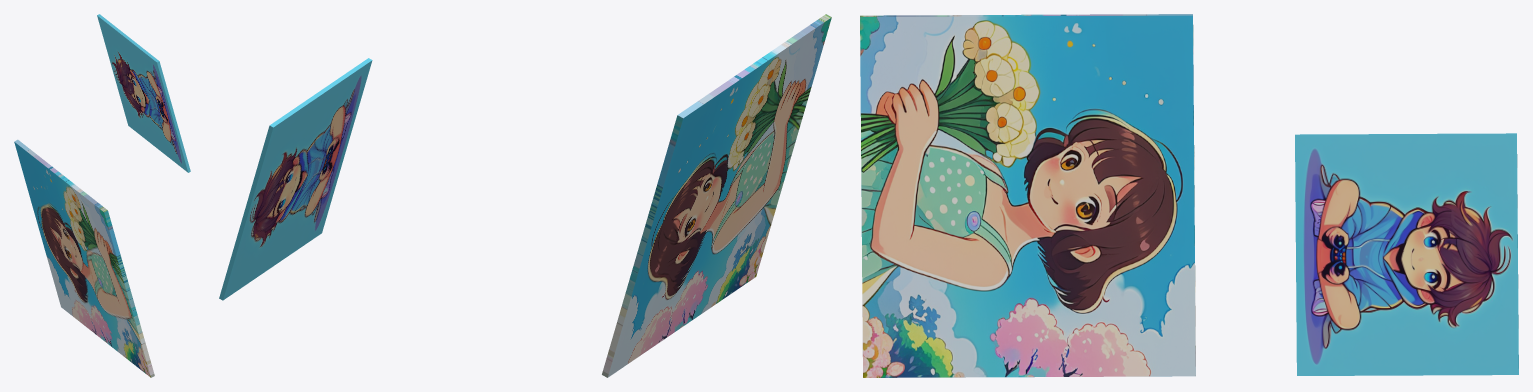
File: drowing.fbx
3 views of the same model, side by side, from view 1: azimuth 30°, elevation 25°; view 2: azimuth 150°, elevation 25°; view 3: azimuth 270°, elevation 25° (orthographic). The views are drawn at different scales.
Visible parts, largest first — view 1: Canvas_Plane.003, Canvas_Plane.002; view 2: Canvas_Plane.003, Canvas_Plane.002; view 3: Canvas_Plane.003, Canvas_Plane.002.
Part boxes in pixels (left/top/right/bottom): Canvas_Plane.003: left=14, top=139, right=154, bottom=377; Canvas_Plane.002: left=97, top=14, right=190, bottom=172; Canvas_Plane.003: left=602, top=14, right=831, bottom=377; Canvas_Plane.002: left=219, top=58, right=372, bottom=300; Canvas_Plane.003: left=860, top=14, right=1195, bottom=377; Canvas_Plane.002: left=1295, top=133, right=1518, bottom=375.
Bounding box in the file's own units: 393 × 355 × 594.
2 materials, 2 textured.
